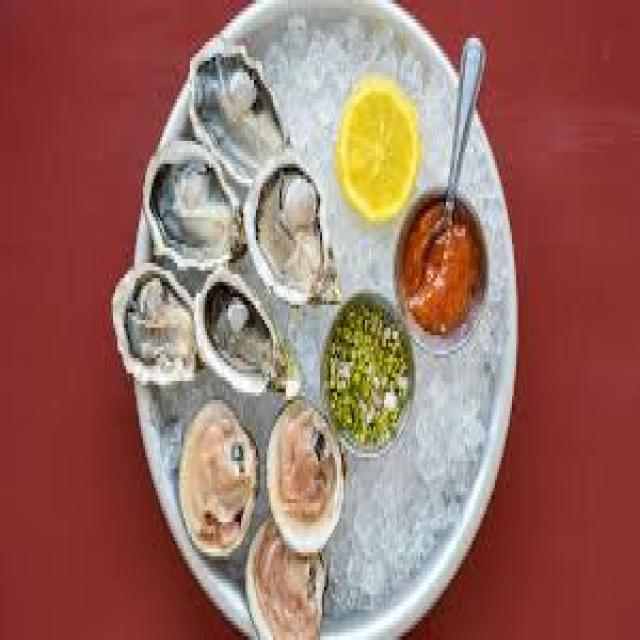lemon: (339, 75, 415, 220)
oysters: (250, 156, 332, 312), (197, 266, 293, 392), (144, 145, 247, 261), (191, 44, 285, 165), (110, 263, 195, 383)
